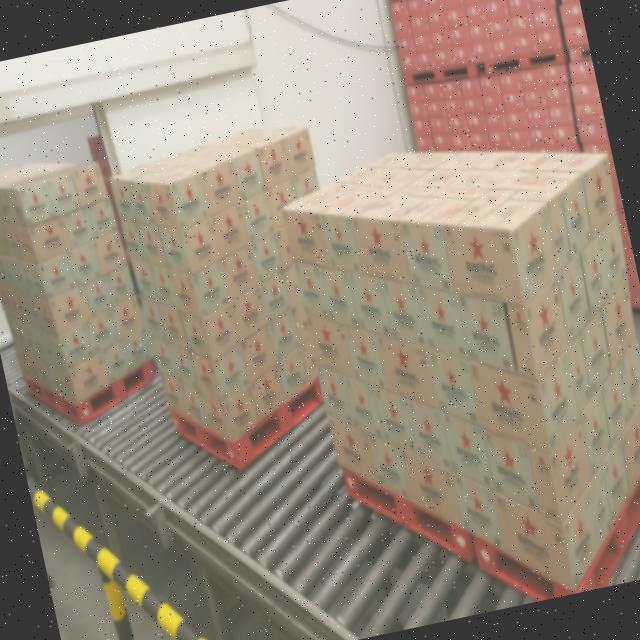pallet: (268, 103, 640, 637), (102, 106, 383, 486), (0, 128, 166, 437)
